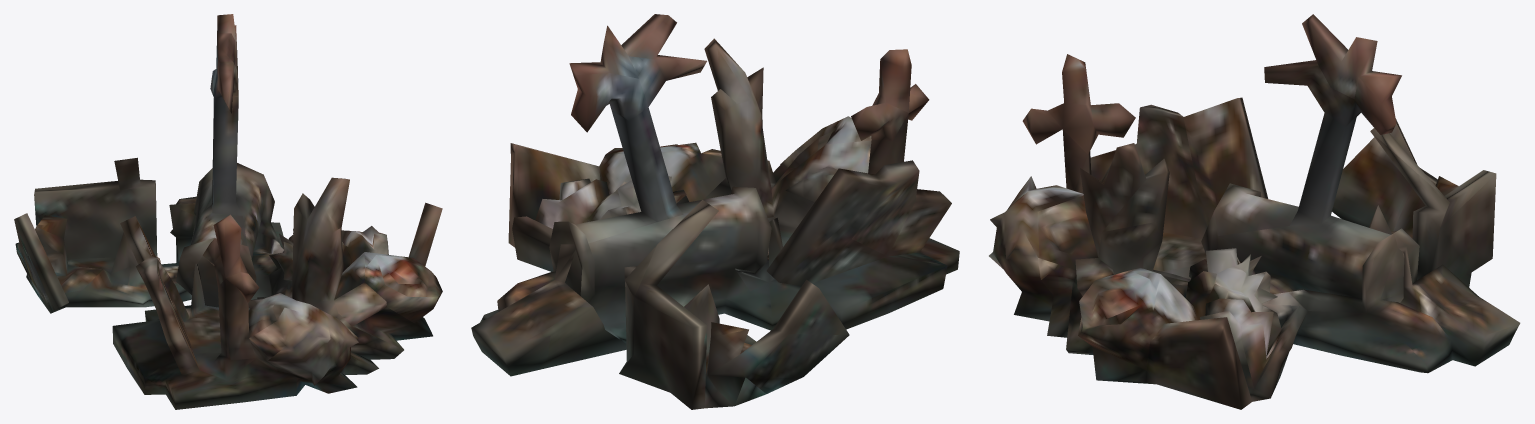
File: Cementerio_Lado_Altar_Mini.glb
3 views of the same model, side by side, from view 1: azimuth 30°, elevation 25°; view 2: azimuth 150°, elevation 25°; view 3: azimuth 270°, elevation 25° (orthographic). The views are drawn at different scales.
Parts seen in each view (by area): view 1: Cementerio Lado Altar Mini; view 2: Cementerio Lado Altar Mini; view 3: Cementerio Lado Altar Mini.
Part boxes in pixels (left/top/right/bottom): Cementerio Lado Altar Mini: left=14, top=14, right=442, bottom=409; Cementerio Lado Altar Mini: left=471, top=14, right=959, bottom=409; Cementerio Lado Altar Mini: left=989, top=14, right=1520, bottom=409.
Bounding box in the file's own units: 0.1069 × 0.0779 × 0.124.
Materials: 1 (1 with a texture image).
